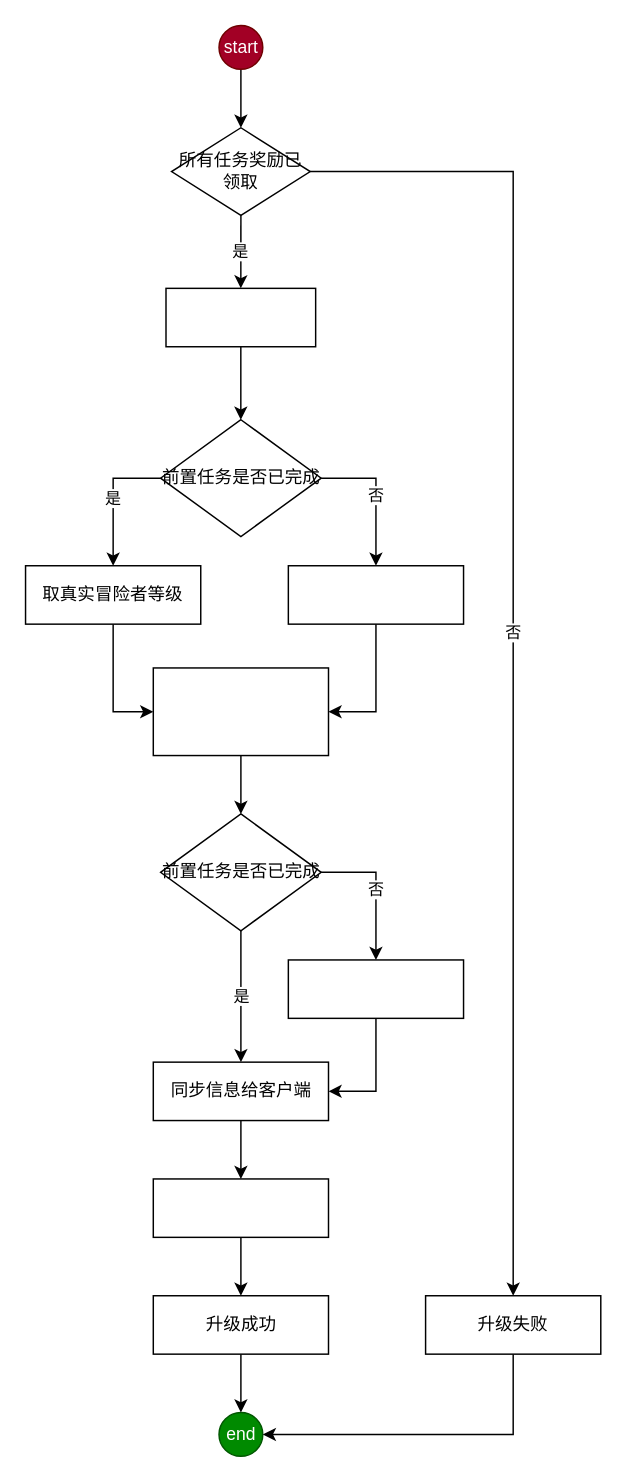
This 626x1482 diagram has some shape labels left out. Here are the shapes that lost their labels. From the top down, the centre of each, then its label:
(x=240, y=317): 获取挑战等级
(x=375, y=594): 取当前冒险者等级为0
(x=240, y=711): 更新全局冒险者段位信息（个段位有多少人等）
(x=375, y=988): 设置为前置任务已完成状态
(x=240, y=1207): 接取新一级任务
